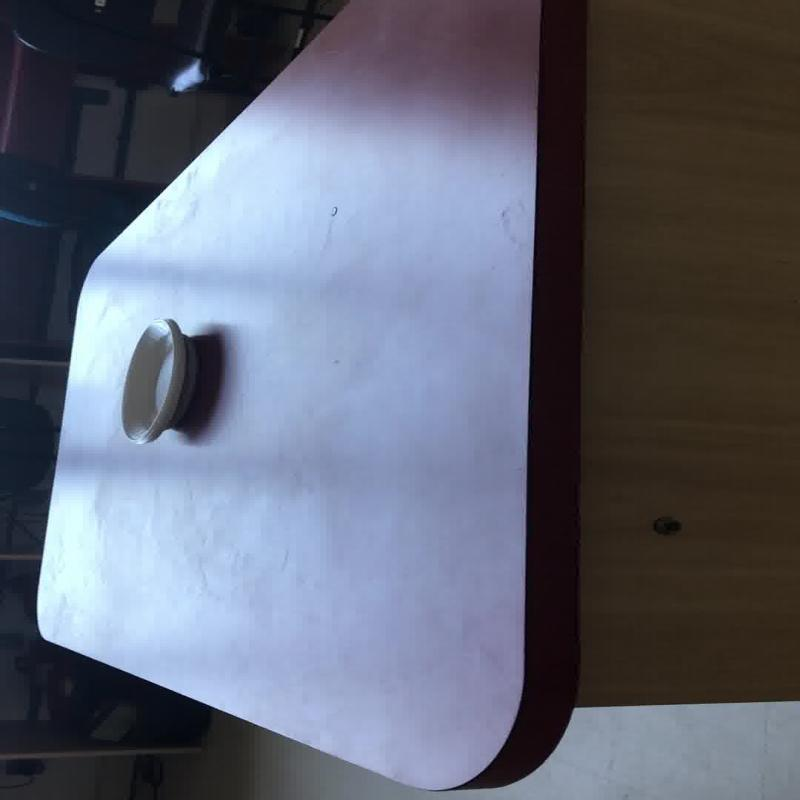plate: (34, 0, 586, 790), (119, 318, 197, 444)
